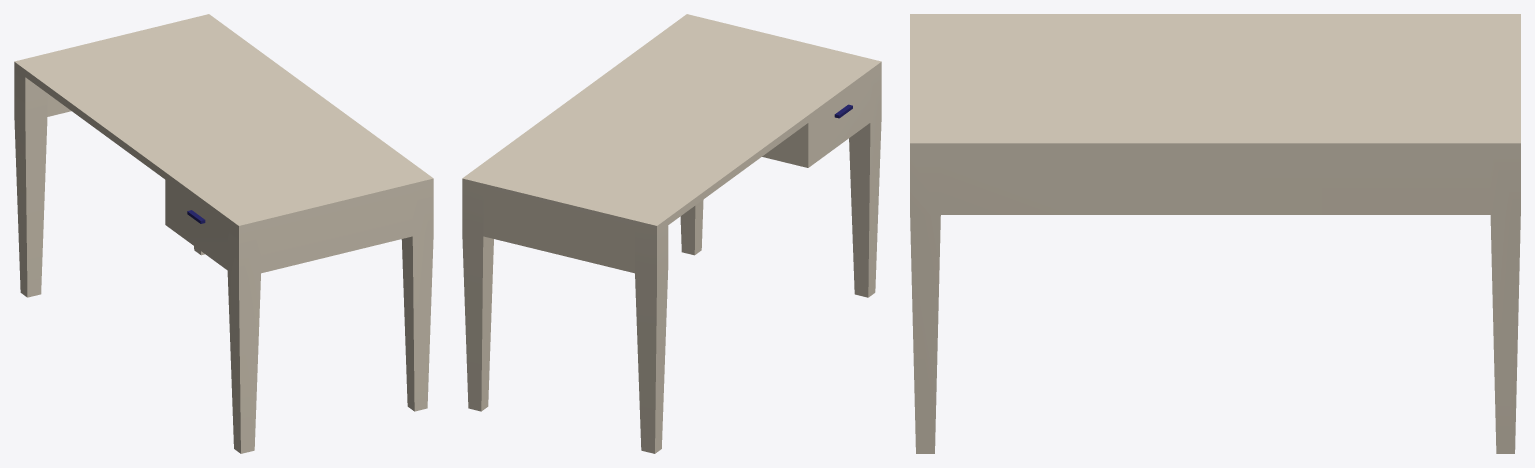
File: desk_1.glb
The picture shows the model from 3 angles, left to right: view 1: azimuth 30°, elevation 25°; view 2: azimuth 150°, elevation 25°; view 3: azimuth 270°, elevation 25°; orthographic projection. The views are drawn at different scales.
Parts seen in each view (by area): view 1: desk; view 2: desk; view 3: desk.
Boxes of the visible parts, box(x1,y1,x2,y2) form: desk: box(14, 14, 433, 453); desk: box(462, 14, 881, 453); desk: box(910, 14, 1520, 453).
Size of the model in its own units: 1.03 by 1.13 by 2.
